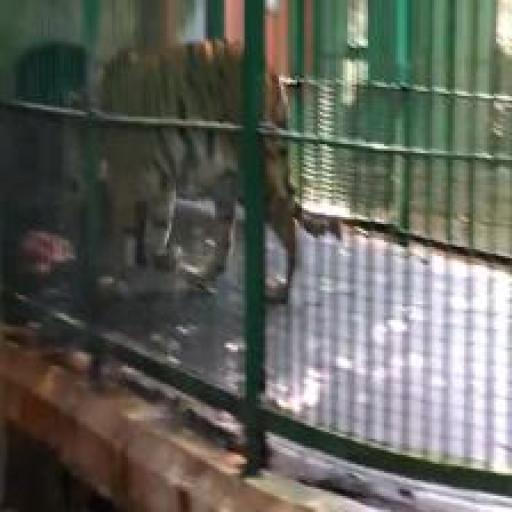Tiger: (87, 32, 344, 325)
